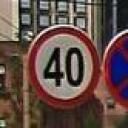speed_limit_40: (28, 26, 100, 107)
